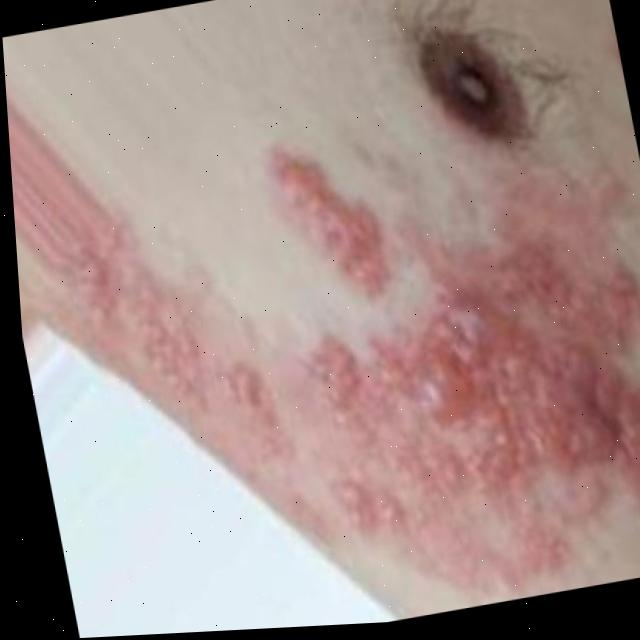Shingles: (65, 122, 640, 637)
